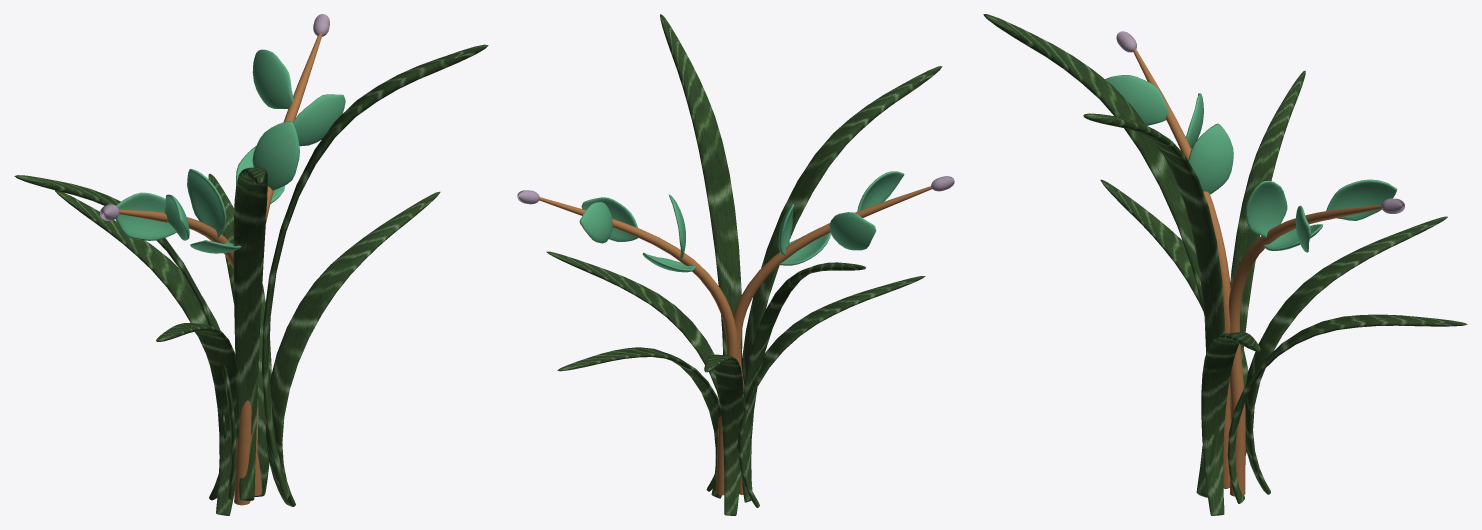
File: OrchidStage2.fbx
The picture shows the model from 3 angles, left to right: view 1: azimuth 30°, elevation 25°; view 2: azimuth 150°, elevation 25°; view 3: azimuth 270°, elevation 25°; orthographic projection. The views are drawn at different scales.
Parts seen in each view (by area): view 1: polySurface3, pPlane11, polySurface9, pPlane9, pPlane10, pPlane7, pPlane13, pPlane12, pPlane8; view 2: pPlane10, polySurface9, polySurface3, pPlane11, pPlane13, pPlane12, pPlane7, pPlane9, pPlane8; view 3: polySurface3, polySurface9, pPlane10, pPlane11, pPlane13, pPlane9, pPlane12, pPlane8, pPlane7.
Boxes of the visible parts, box(x1,y1,x2,y2) form: polySurface3: box(236, 14, 345, 495); pPlane11: box(233, 167, 267, 500); polySurface9: box(100, 169, 251, 505); pPlane9: box(265, 191, 440, 506); pPlane10: box(262, 44, 488, 500); pPlane7: box(156, 323, 238, 515); pPlane13: box(55, 190, 226, 500); pPlane12: box(14, 175, 236, 500); pPlane8: box(208, 174, 271, 496); pPlane10: box(660, 14, 742, 362); polySurface9: box(733, 171, 954, 494); polySurface3: box(517, 190, 738, 495); pPlane11: box(741, 66, 942, 385); pPlane13: box(704, 354, 743, 515); pPlane12: box(742, 262, 865, 502); pPlane7: box(737, 276, 925, 507); pPlane9: box(546, 251, 719, 491); pPlane8: box(557, 347, 721, 498); polySurface3: box(1229, 179, 1404, 496); polySurface9: box(1105, 31, 1233, 488); pPlane10: box(1083, 113, 1224, 497); pPlane11: box(983, 14, 1204, 314); pPlane13: box(1245, 216, 1447, 494); pPlane9: box(1201, 332, 1260, 515); pPlane12: box(1230, 71, 1305, 419); pPlane8: box(1227, 314, 1467, 503); pPlane7: box(1100, 179, 1248, 488).
Bounding box in the file's own units: 1.8 × 2.01 × 1.92.
Materials: 4 (1 with a texture image).
